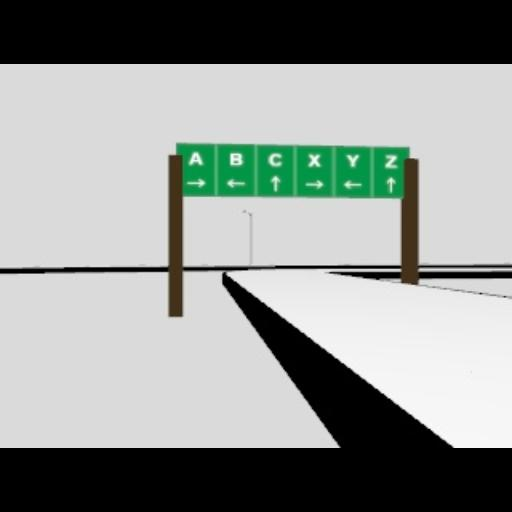A: (187, 151, 203, 165)
B: (229, 152, 243, 164)
C: (267, 152, 281, 166)
Left: (226, 177, 246, 187), (342, 179, 362, 189)
Right: (304, 179, 324, 189), (186, 177, 204, 187)
Straight: (270, 174, 280, 190), (385, 176, 395, 192)
X: (308, 152, 320, 166)
Y: (346, 152, 360, 166)
Z: (384, 154, 396, 168)
